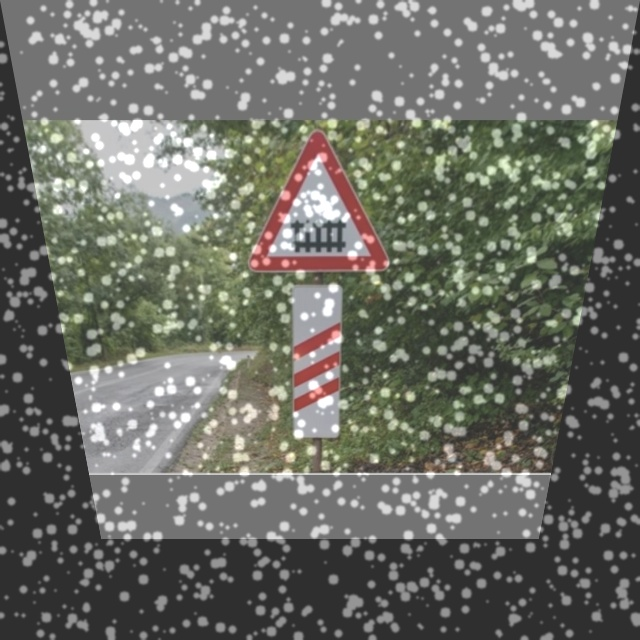Guarded_Level_Crossing: (243, 131, 397, 271)
